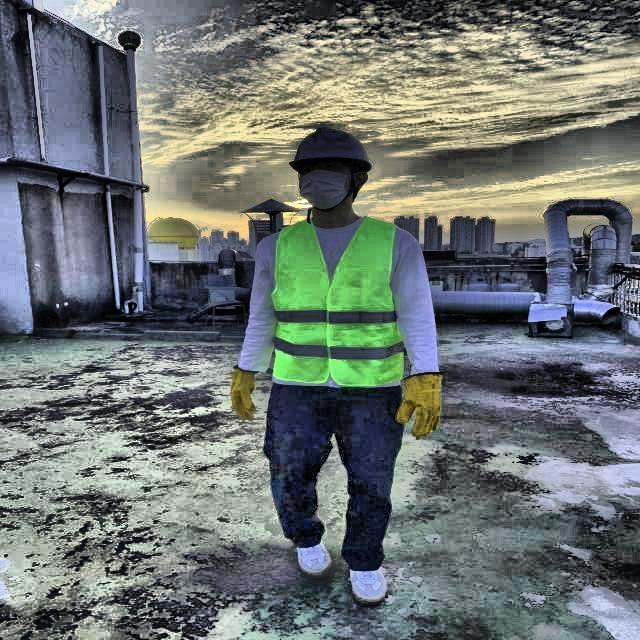safety_jacket: (272, 217, 403, 386)
